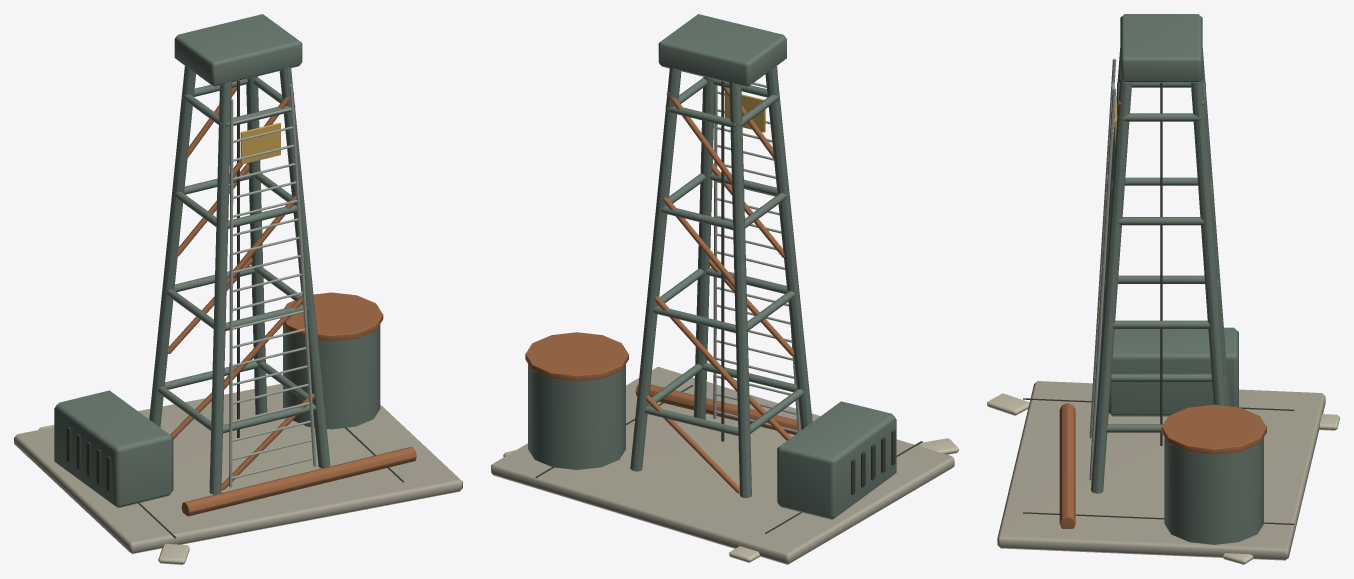
File: FrontierExtractionRig.glb
3 renders of one model, left to right at view 1: azimuth 30°, elevation 25°; view 2: azimuth 150°, elevation 25°; view 3: azimuth 270°, elevation 25°, orthographic. The views are drawn at different scales.
Parts seen in each view (by area): view 1: Sand buried service pad, Compressor, Old extraction tank, Hoist head, Tapered extraction tower, Tapered extraction tower.001, Tapered extraction tower.002, Buried feeder, Tank rim, Tapered extraction tower.003, Tower ladder rail.001, Tower ladder rail (+9 smaller); view 2: Sand buried service pad, Compressor, Old extraction tank, Hoist head, Tapered extraction tower.001, Tapered extraction tower.003, Tapered extraction tower, Tank rim, Tapered extraction tower.002, Buried feeder, Hoist cable, Tower ladder rail.001 (+9 smaller); view 3: Sand buried service pad, Old extraction tank, Compressor, Hoist head, Tapered extraction tower.002, Tank rim, Tapered extraction tower.003, Buried feeder, Tower ladder rail.001, Tapered extraction tower.001, Hoist cable, Tower side tie (+9 smaller).
Part boxes in pixels (bbox=[...]): Sand buried service pad: bbox=[14, 384, 462, 553]; Compressor: bbox=[54, 390, 173, 508]; Old extraction tank: bbox=[283, 324, 380, 429]; Hoist head: bbox=[174, 14, 302, 86]; Tapered extraction tower: bbox=[209, 81, 231, 494]; Tapered extraction tower.001: bbox=[149, 66, 195, 427]; Tapered extraction tower.002: bbox=[279, 67, 330, 468]; Buried feeder: bbox=[181, 447, 416, 516]; Tank rim: bbox=[280, 292, 383, 341]; Tapered extraction tower.003: bbox=[246, 76, 267, 414]; Tower ladder rail.001: bbox=[289, 84, 316, 466]; Tower ladder rail: bbox=[229, 99, 233, 487]; Sand buried service pad: bbox=[491, 367, 954, 564]; Compressor: bbox=[777, 401, 896, 519]; Old extraction tank: bbox=[528, 364, 625, 469]; Hoist head: bbox=[658, 14, 786, 87]; Tapered extraction tower.001: bbox=[729, 82, 751, 497]; Tapered extraction tower.003: bbox=[630, 67, 681, 471]; Tapered extraction tower: bbox=[765, 66, 812, 429]; Tank rim: bbox=[525, 332, 628, 381]; Tapered extraction tower.002: bbox=[693, 77, 714, 419]; Buried feeder: bbox=[635, 384, 801, 434]; Hoist cable: bbox=[721, 81, 724, 441]; Tower ladder rail.001: bbox=[713, 85, 717, 418]; Sand buried service pad: bbox=[997, 381, 1325, 560]; Old extraction tank: bbox=[1164, 437, 1263, 544]; Compressor: bbox=[1108, 327, 1238, 416]; Hoist head: bbox=[1120, 14, 1202, 82]; Tapered extraction tower.002: bbox=[1091, 78, 1131, 493]; Tank rim: bbox=[1161, 404, 1266, 454]; Tapered extraction tower.003: bbox=[1191, 78, 1225, 405]; Buried feeder: bbox=[1059, 403, 1075, 528]; Tower ladder rail.001: bbox=[1089, 88, 1116, 480]; Tapered extraction tower.001: bbox=[1202, 48, 1229, 406]; Hoist cable: bbox=[1160, 83, 1162, 445]; Tower side tie: bbox=[1111, 374, 1211, 382].
Bounding box in the file's own units: 7.01 × 8.32 × 6.02.
